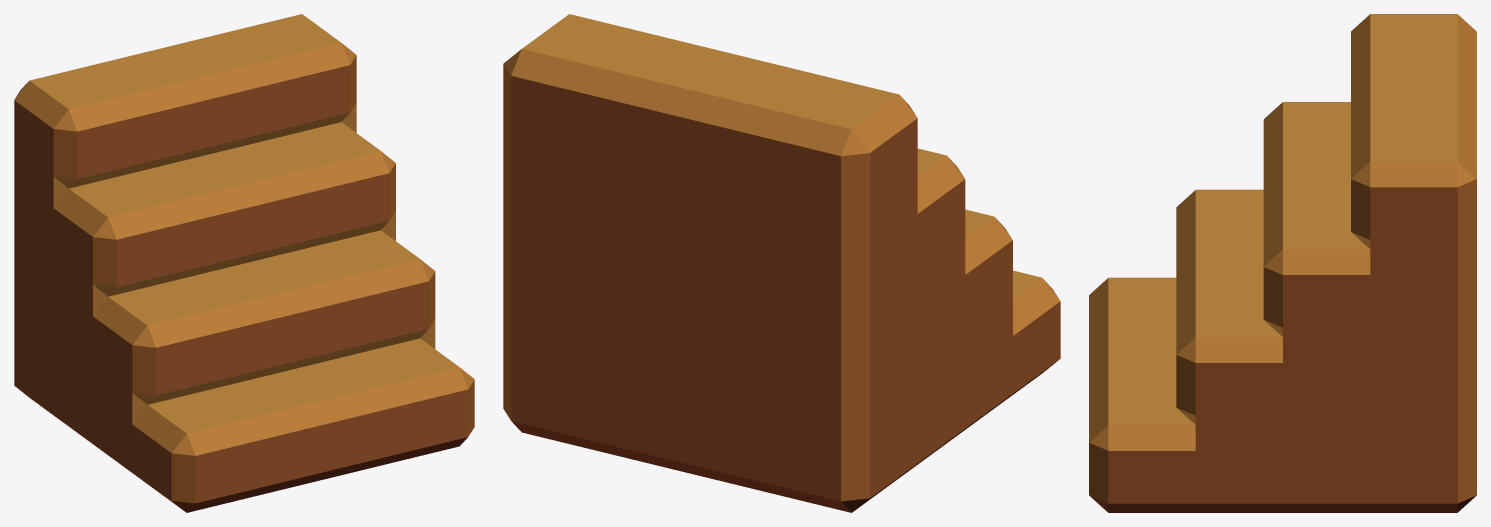
File: m_kub_wood_stairs_block.FBX
3 renders of one model, left to right at view 1: azimuth 30°, elevation 25°; view 2: azimuth 150°, elevation 25°; view 3: azimuth 270°, elevation 25°, orthographic. The views are drawn at different scales.
Parts seen in each view (by area): view 1: m_kub_wood_stairs_block; view 2: m_kub_wood_stairs_block; view 3: m_kub_wood_stairs_block.
Part boxes in pixels (box(x1,y1,x2,y2)): m_kub_wood_stairs_block: box(14, 14, 474, 512); m_kub_wood_stairs_block: box(503, 14, 1060, 512); m_kub_wood_stairs_block: box(1089, 14, 1476, 512).
Size of the model in its own units: 2 by 2 by 2.
